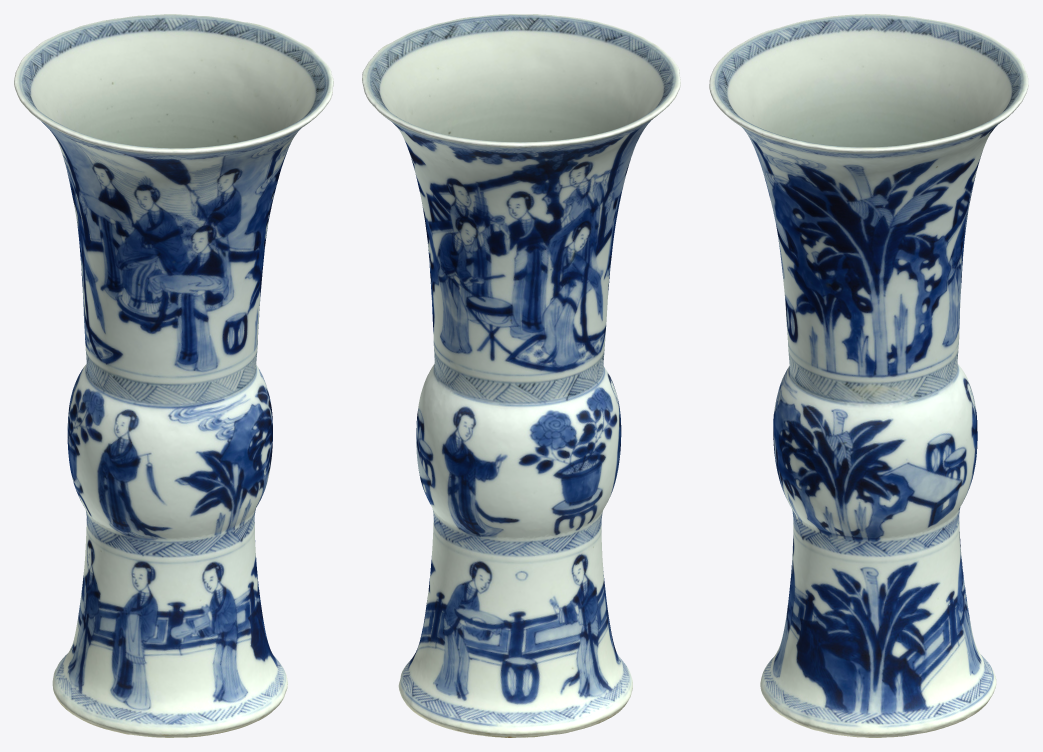
The model's file is Binh_Hoa.glb.
3 renders of one model, left to right at view 1: azimuth 30°, elevation 25°; view 2: azimuth 150°, elevation 25°; view 3: azimuth 270°, elevation 25°, orthographic.
Parts seen in each view (by area): view 1: Object_4, Object_5; view 2: Object_4, Object_5; view 3: Object_4, Object_5.
Boxes of the visible parts, bbox=[...] form: Object_4: bbox=[14, 14, 333, 737]; Object_5: bbox=[14, 14, 333, 737]; Object_4: bbox=[362, 14, 680, 737]; Object_5: bbox=[362, 14, 680, 737]; Object_4: bbox=[709, 14, 1028, 737]; Object_5: bbox=[710, 14, 1028, 737].
Bounding box in the file's own units: 0.1446 × 0.307 × 0.1452.
Materials: 1 (1 with a texture image).
